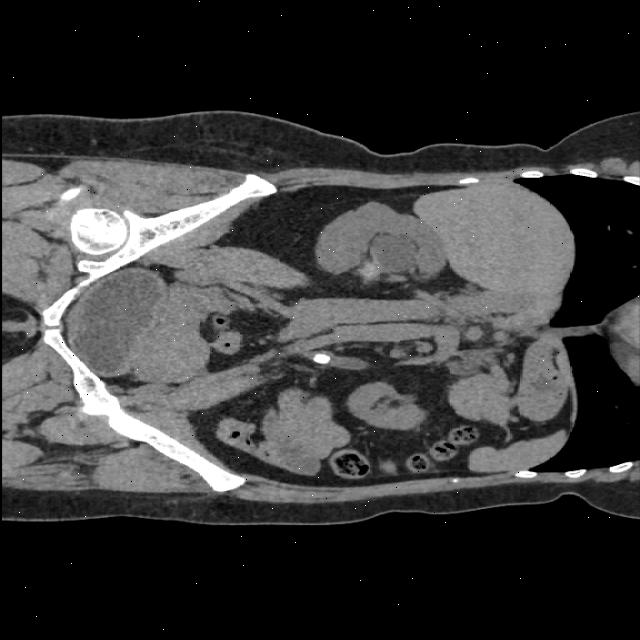kidneystone: (313, 354, 329, 364)
